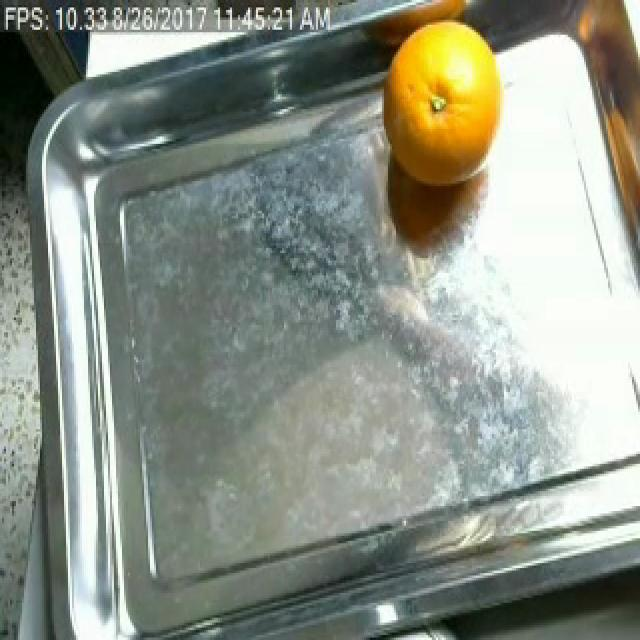Fruit: (360, 2, 524, 206)
